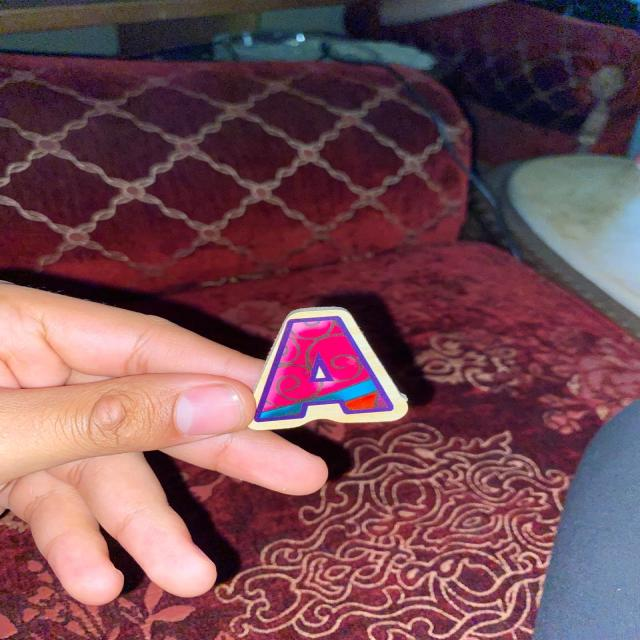A: (249, 307, 407, 431)
